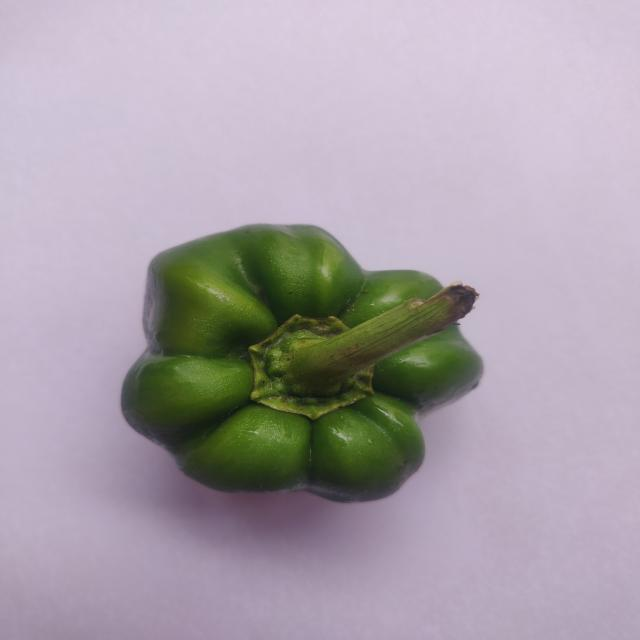Capsicum: (117, 212, 501, 514)
